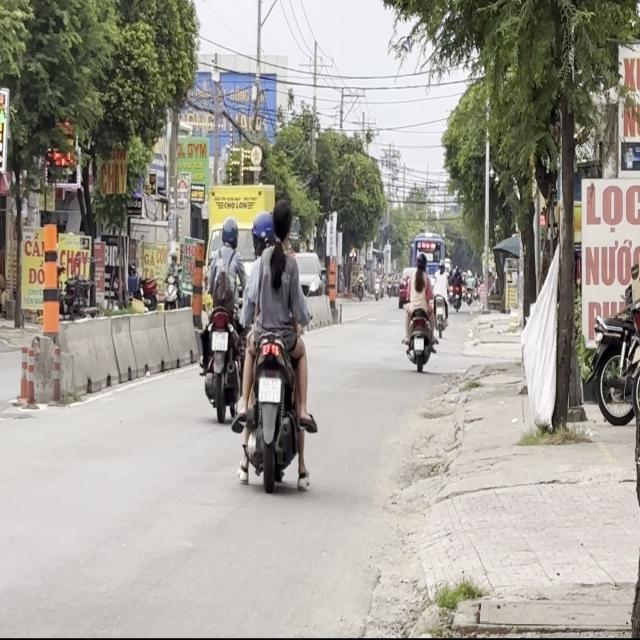helmet: (251, 210, 275, 253), (220, 217, 239, 250)
licenseplate: (236, 197, 317, 491), (197, 212, 246, 421)
motorcyclist: (272, 198, 292, 242)
nohelmet: (259, 376, 280, 402), (212, 331, 228, 350)
